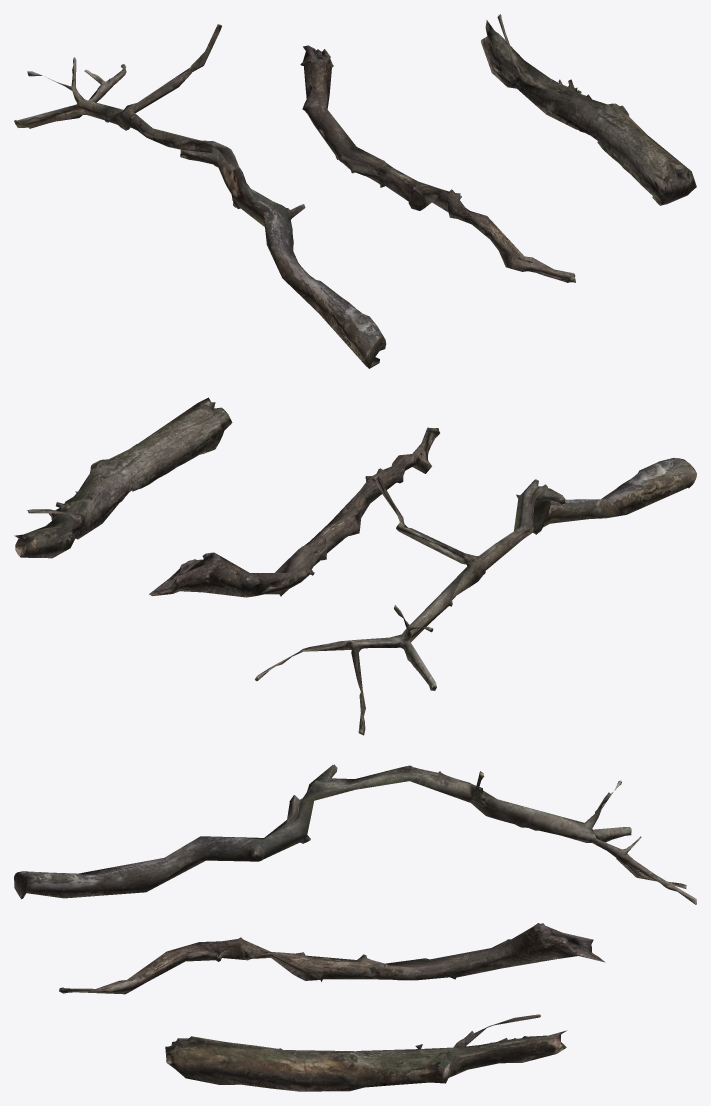
Rendered from dry_branches.glb.
The picture shows the model from 3 angles, top to bottom: view 1: azimuth 30°, elevation 25°; view 2: azimuth 150°, elevation 25°; view 3: azimuth 270°, elevation 25°; orthographic projection. The views are drawn at different scales.
Visible parts, largest first — view 1: dry_branches_medium_01_a, dry_branches_medium_01_c, dry_branches_medium_01_b; view 2: dry_branches_medium_01_a, dry_branches_medium_01_c, dry_branches_medium_01_b; view 3: dry_branches_medium_01_a, dry_branches_medium_01_c, dry_branches_medium_01_b.
Boxes of the visible parts, <box> form: dry_branches_medium_01_a: <box>14,24,386,368</box>; dry_branches_medium_01_c: <box>480,14,696,205</box>; dry_branches_medium_01_b: <box>300,45,575,282</box>; dry_branches_medium_01_a: <box>255,458,696,735</box>; dry_branches_medium_01_c: <box>14,397,232,558</box>; dry_branches_medium_01_b: <box>149,427,439,597</box>; dry_branches_medium_01_a: <box>14,764,696,904</box>; dry_branches_medium_01_c: <box>165,1014,566,1091</box>; dry_branches_medium_01_b: <box>59,923,605,994</box>.
Size of the model in its own units: 1.06 by 0.34 by 1.3.
1 material, 1 textured.
